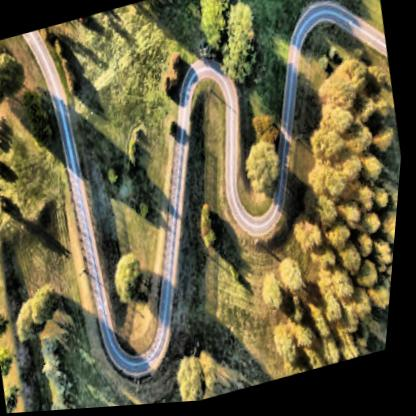tree-top: (313, 58, 380, 124), (213, 0, 265, 67), (106, 248, 161, 311), (238, 138, 290, 198), (35, 197, 81, 251), (24, 280, 69, 334), (289, 203, 331, 259), (190, 0, 240, 42), (38, 310, 83, 353), (177, 356, 213, 405), (306, 158, 344, 204), (0, 48, 27, 107), (11, 299, 44, 347), (348, 294, 382, 338), (195, 201, 223, 254), (310, 127, 343, 170), (51, 370, 83, 412), (352, 0, 387, 38), (370, 121, 401, 163), (263, 279, 297, 316), (279, 257, 309, 298), (339, 150, 369, 191), (201, 351, 228, 394), (41, 350, 71, 388), (278, 333, 307, 372), (334, 275, 364, 312), (348, 123, 376, 162), (315, 341, 348, 374), (338, 248, 371, 280), (325, 227, 359, 258), (0, 337, 25, 378), (352, 188, 383, 220), (314, 195, 342, 230), (362, 262, 390, 297), (324, 300, 355, 331), (340, 206, 370, 238), (5, 376, 30, 414), (361, 156, 390, 188), (313, 304, 336, 343), (291, 299, 317, 333), (0, 305, 22, 343), (374, 94, 398, 128), (357, 235, 384, 264), (361, 213, 388, 242), (375, 245, 399, 275), (298, 329, 321, 360), (372, 288, 396, 317), (380, 218, 401, 251), (376, 187, 399, 217), (342, 345, 367, 367), (386, 261, 398, 289)
